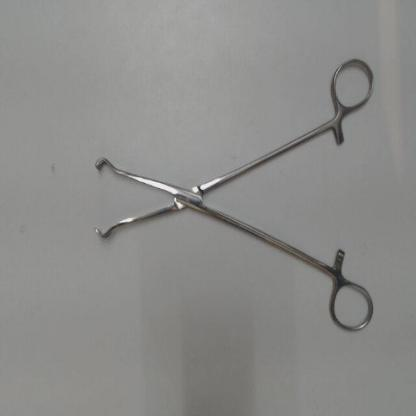8 Babcock Tissue Forceps: (90, 51, 376, 342)
